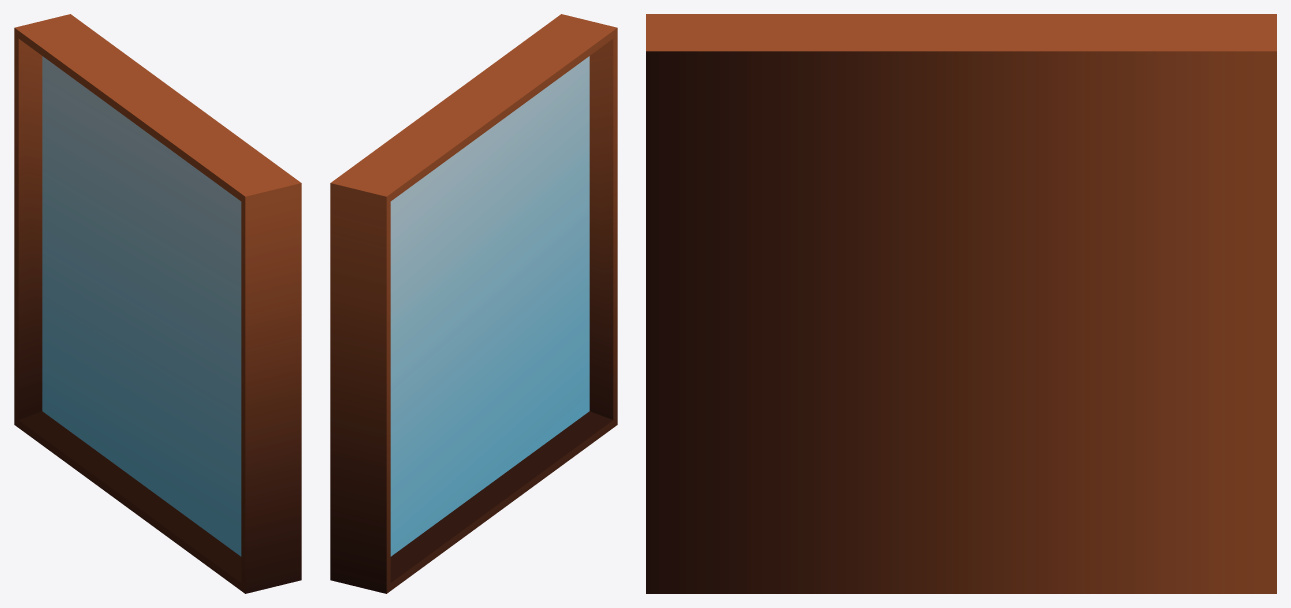
File: Window.FBX
3 views of the same model, side by side, from view 1: azimuth 30°, elevation 25°; view 2: azimuth 150°, elevation 25°; view 3: azimuth 270°, elevation 25° (orthographic). The views are drawn at different scales.
Visible parts, largest first — view 1: Window; view 2: Window; view 3: Window.
Boxes of the visible parts, box(x1,y1,x2,y2) form: Window: box(14, 14, 301, 593); Window: box(330, 14, 617, 593); Window: box(646, 14, 1276, 593).
Bounding box in the file's own units: 19.7 × 133 × 140.
Materials: 1 (1 with a texture image).
